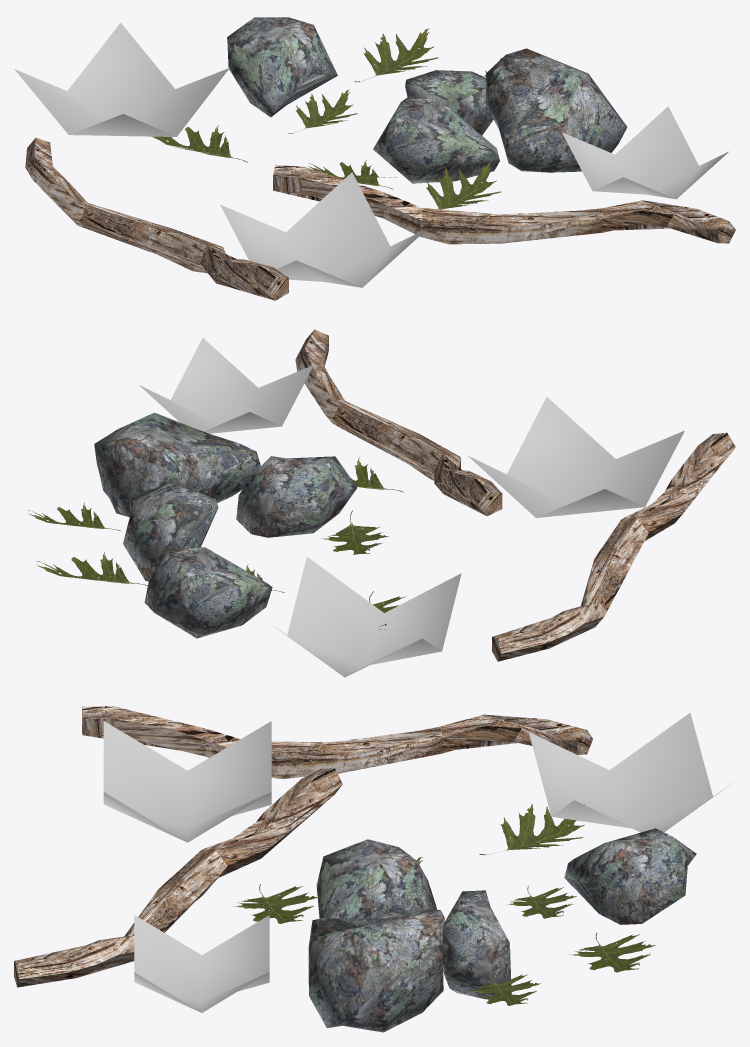
Rendered from debrisBlock_02.DAE.
3 views of the same model, one above another, from view 1: azimuth 30°, elevation 25°; view 2: azimuth 150°, elevation 25°; view 3: azimuth 270°, elevation 25° (orthographic). The views are drawn at different scales.
Visible parts, largest first — view 1: debrisBlockTwo128, debrisBlockTwo64; view 2: debrisBlockTwo128, debrisBlockTwo64; view 3: debrisBlockTwo128, debrisBlockTwo64.
Boxes of the visible parts, bbox=[...] form: debrisBlockTwo128: bbox=[14, 17, 735, 300]; debrisBlockTwo64: bbox=[34, 17, 729, 300]; debrisBlockTwo128: bbox=[28, 329, 735, 677]; debrisBlockTwo64: bbox=[28, 336, 726, 647]; debrisBlockTwo128: bbox=[14, 706, 729, 1032]; debrisBlockTwo64: bbox=[15, 707, 671, 1032].
Bounding box in the file's own units: 1.85 × 1.99 × 0.3144.
